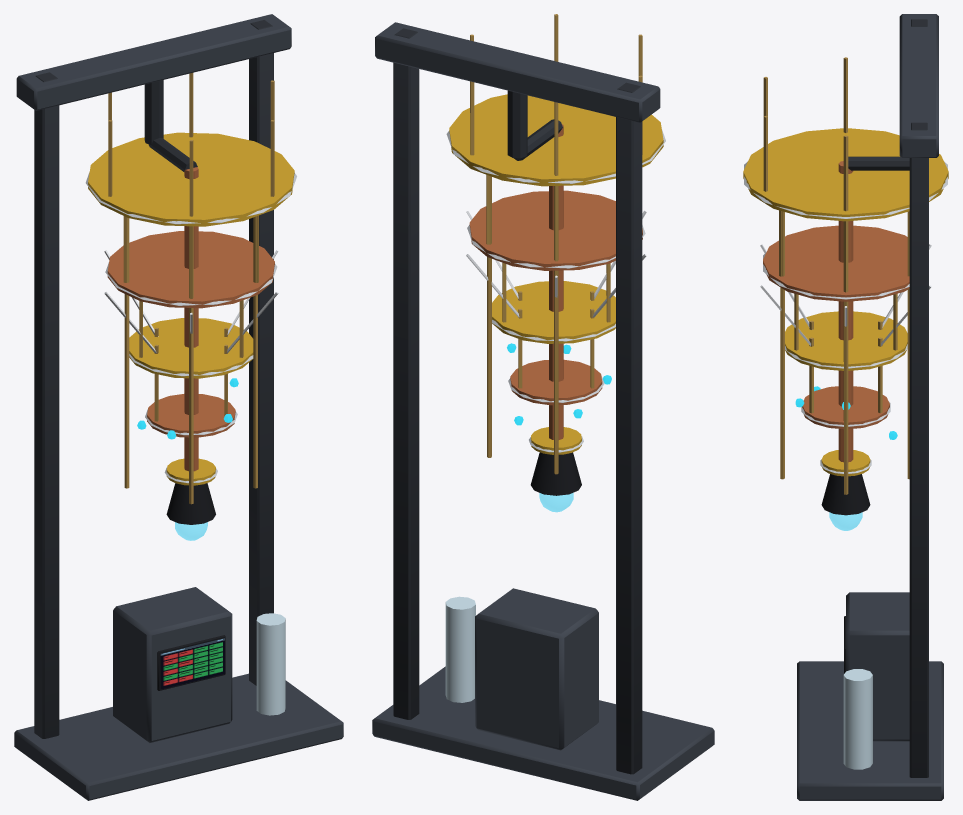
File: particle_quantum_chandelier.glb
The picture shows the model from 3 angles, left to right: view 1: azimuth 30°, elevation 25°; view 2: azimuth 150°, elevation 25°; view 3: azimuth 270°, elevation 25°; orthographic projection. The views are drawn at different scales.
Visible parts, largest first — view 1: particle_quantum_chandelier; view 2: particle_quantum_chandelier; view 3: particle_quantum_chandelier.
Part boxes in pixels (x1,y1,x2,y2): particle_quantum_chandelier: (14,14,343,800); particle_quantum_chandelier: (372,14,714,800); particle_quantum_chandelier: (743,14,948,800).
Size of the model in its own units: 1.2 by 3.01 by 0.84.
12 materials, 1 textured.
